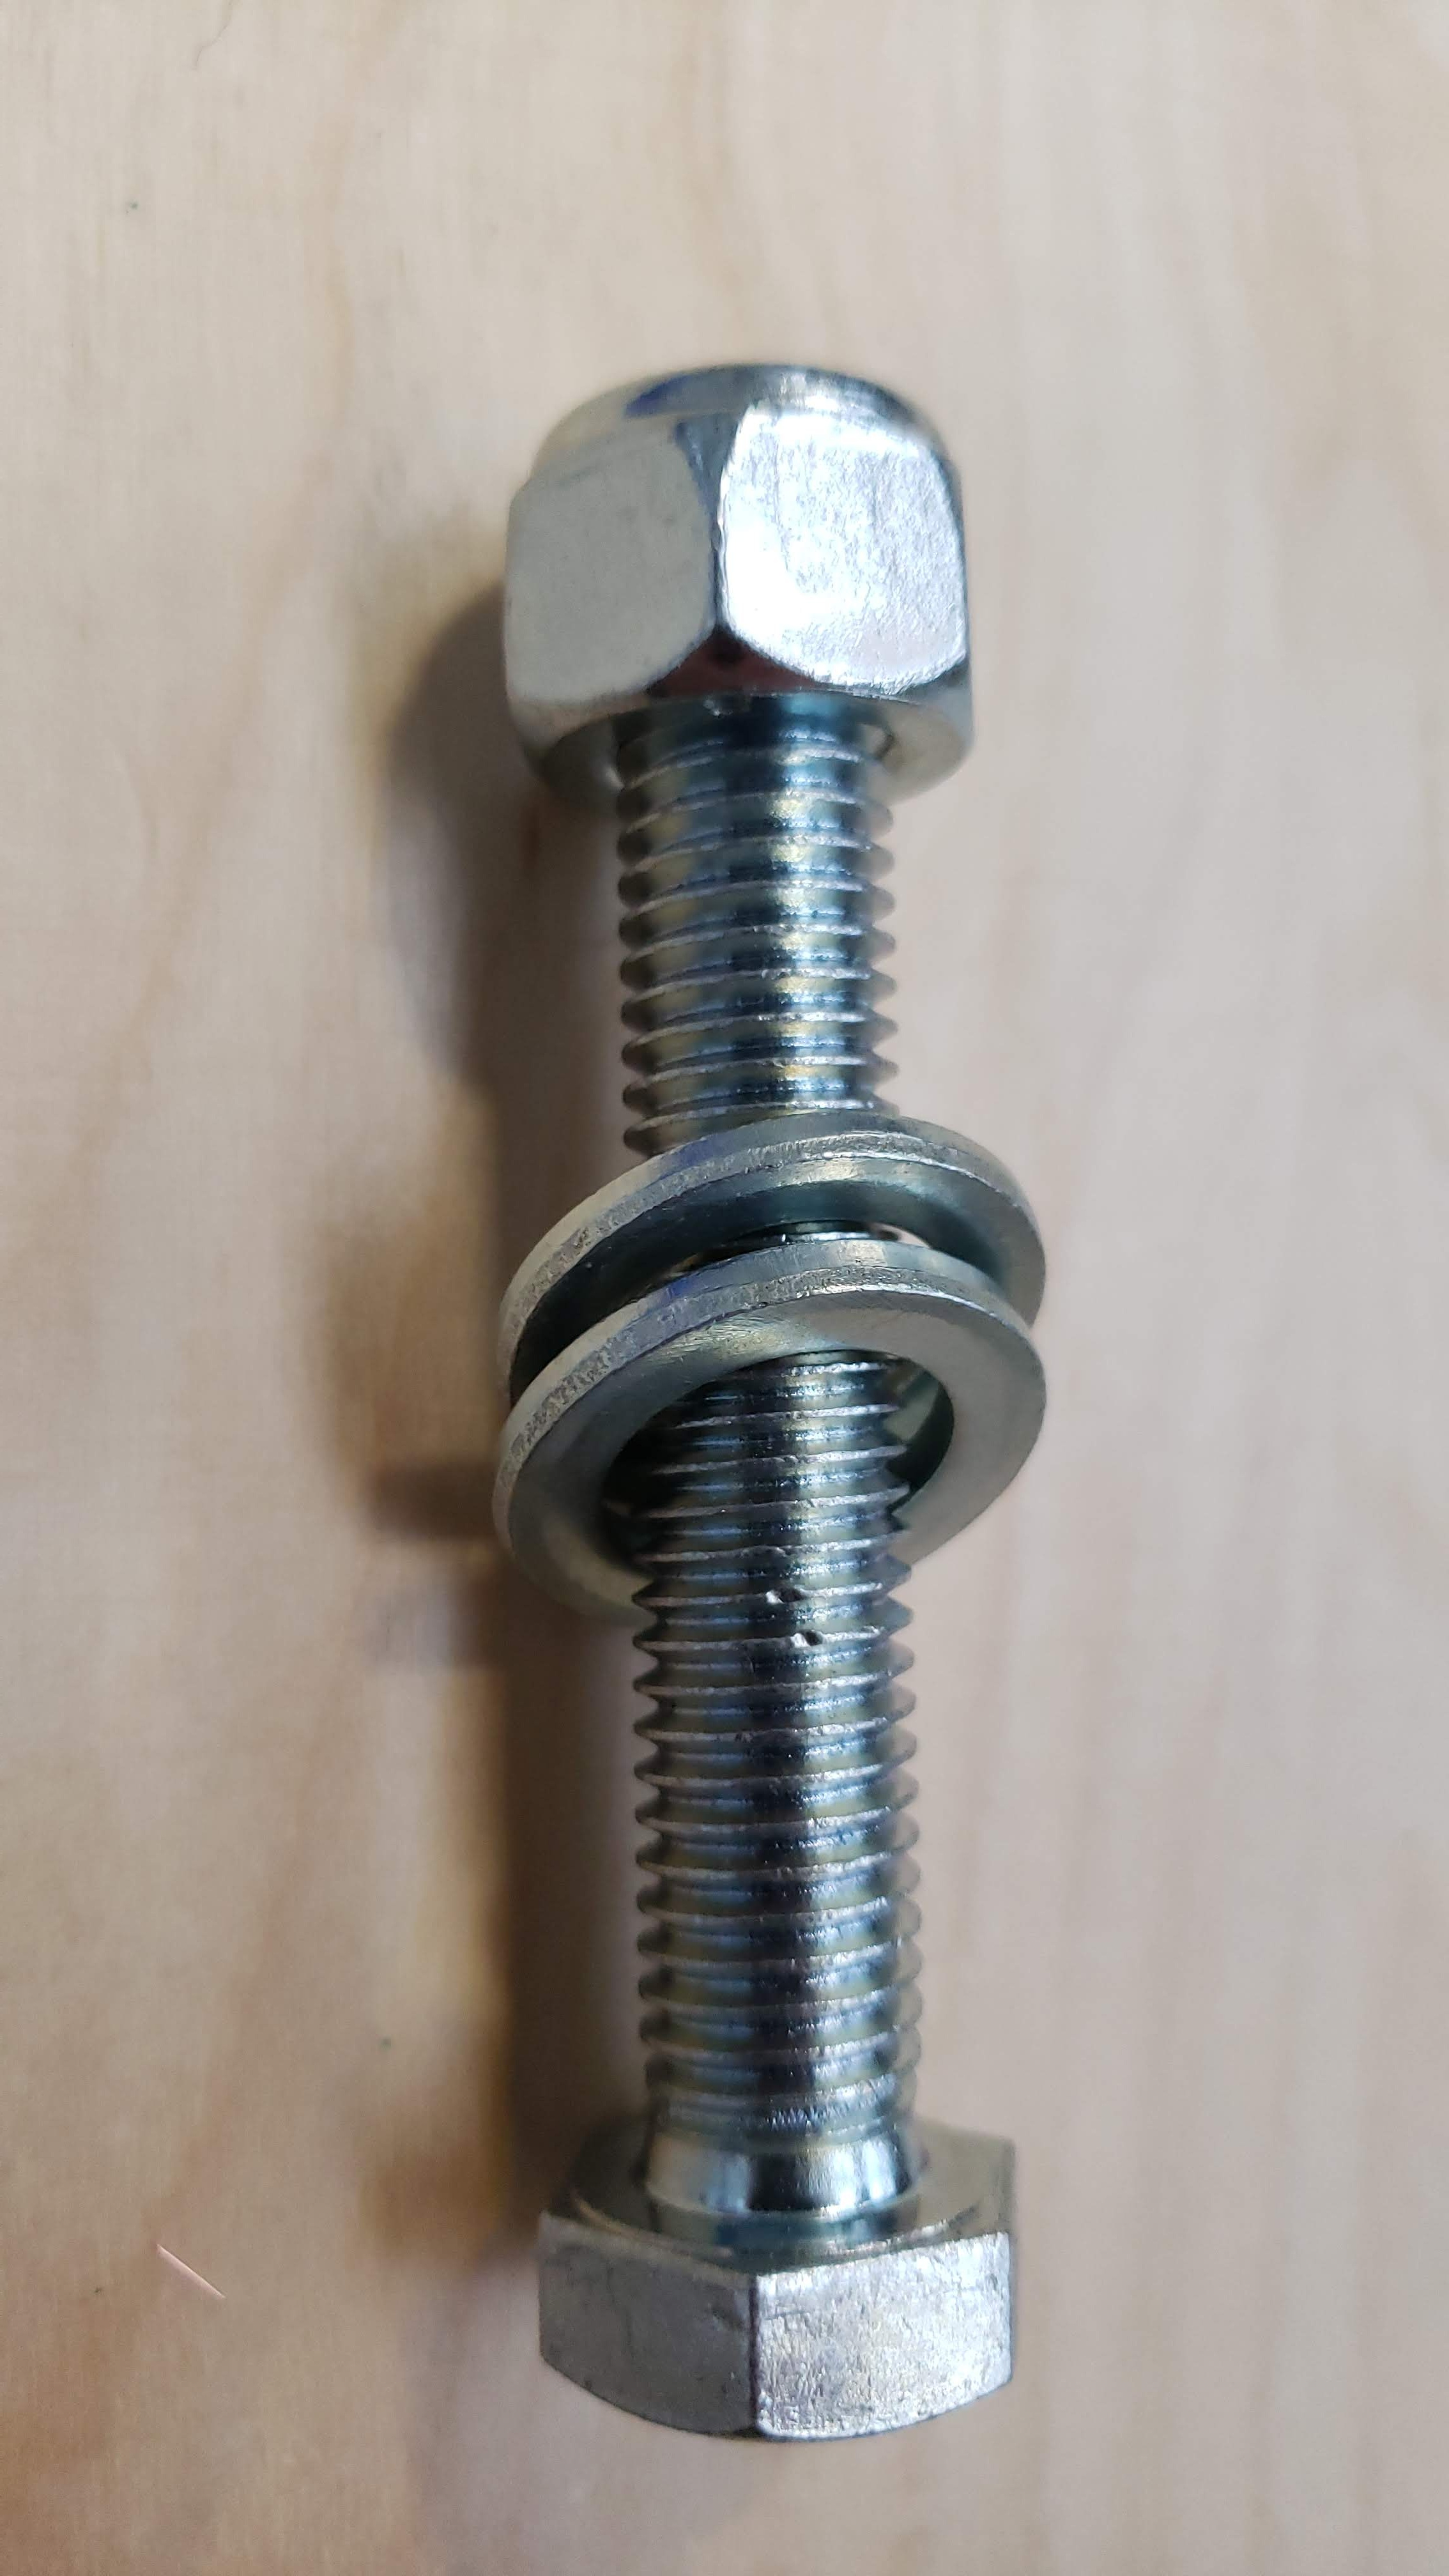FinishedAssembly: (294, 310, 1162, 2530)
